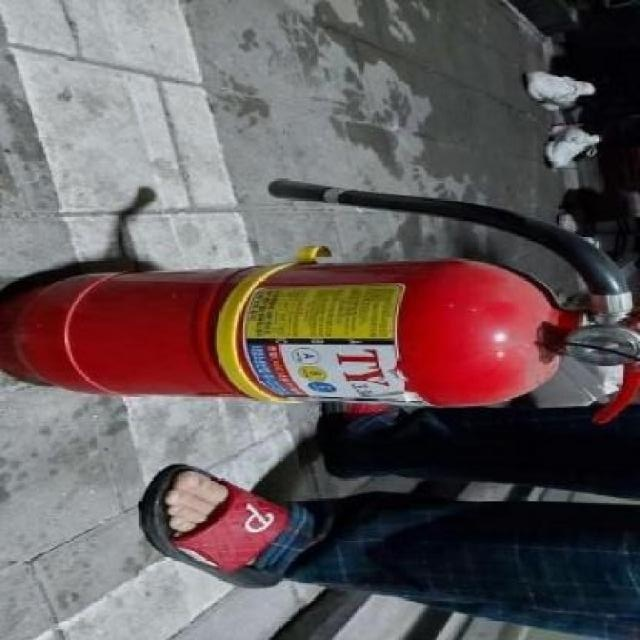fire extinguisher: (0, 177, 640, 423)
